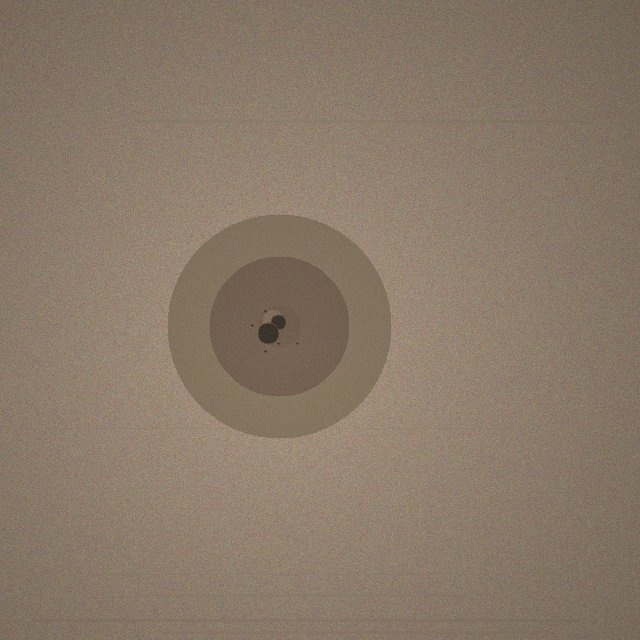shrinkage: (167, 214, 391, 438)
